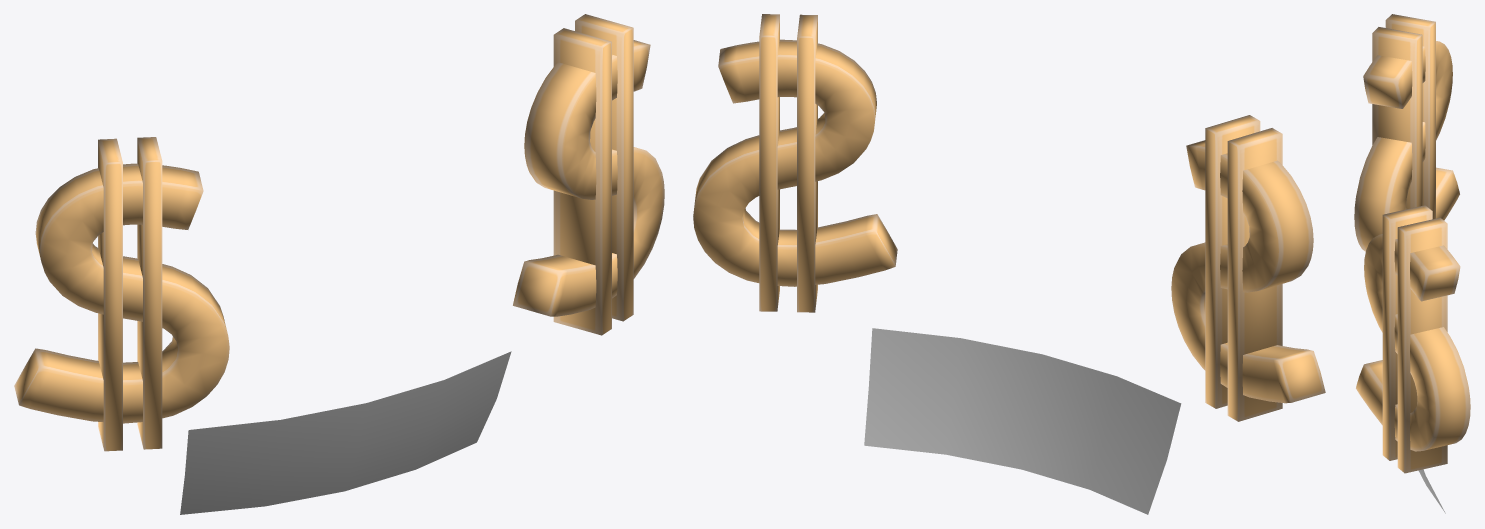
The model's file is Money Face .fbx.
3 renders of one model, left to right at view 1: azimuth 30°, elevation 25°; view 2: azimuth 150°, elevation 25°; view 3: azimuth 270°, elevation 25°, orthographic. The views are drawn at different scales.
Visible parts, largest first — view 1: Money Face; view 2: Money Face; view 3: Money Face.
Part boxes in pixels (x1=…): Money Face: x1=14, y1=14, x2=664, y2=514; Money Face: x1=693, y1=14, x2=1325, y2=514; Money Face: x1=1354, y1=14, x2=1470, y2=513.
Bounding box in the file's own units: 43.04 × 25.35 × 7.94.
